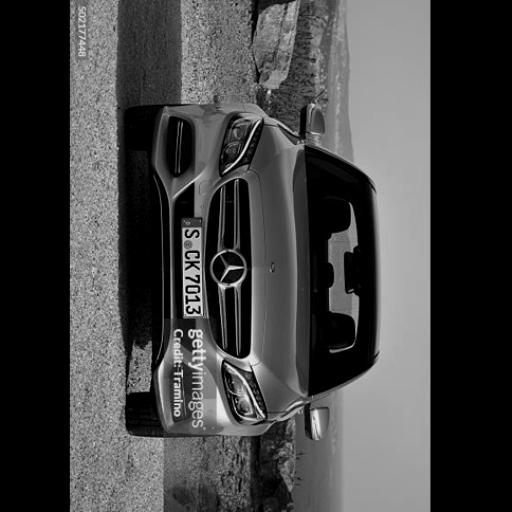sedan: (126, 104, 379, 439)
